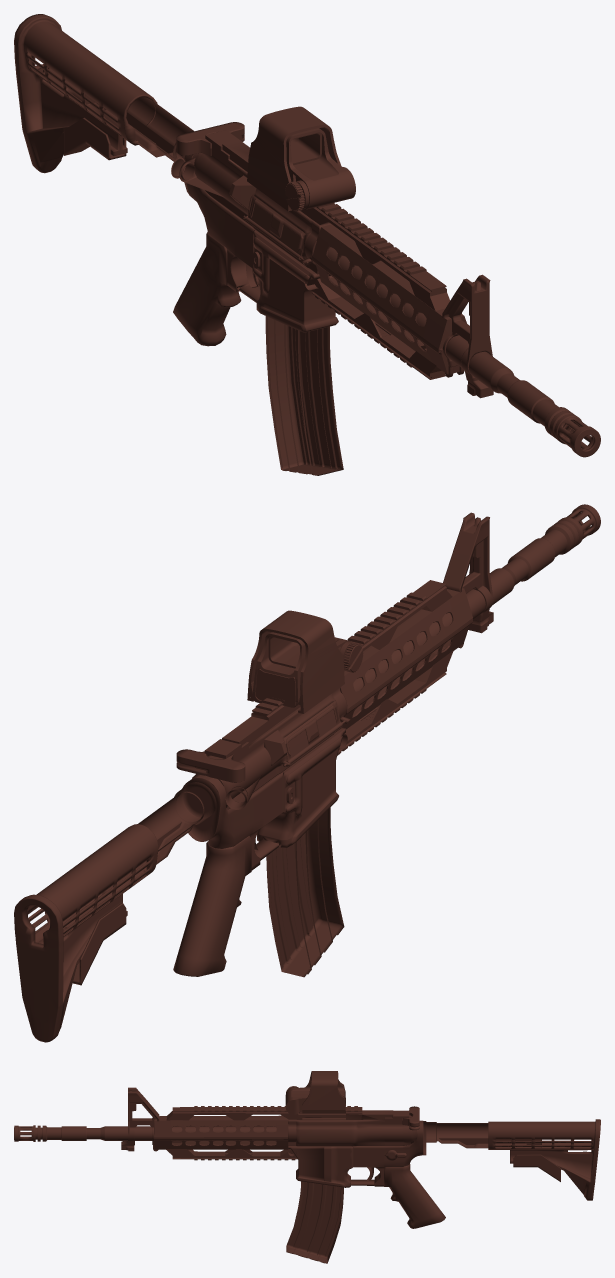
3 views of the same model, one above another, from view 1: azimuth 30°, elevation 25°; view 2: azimuth 150°, elevation 25°; view 3: azimuth 270°, elevation 25° (orthographic). The views are drawn at different scales.
Visible parts, largest first — view 1: firearms_kit.016; view 2: firearms_kit.016; view 3: firearms_kit.016.
Boxes of the visible parts, x1,y1,x2,y2 form: firearms_kit.016: (14, 14, 600, 475); firearms_kit.016: (14, 504, 600, 1042); firearms_kit.016: (14, 1071, 600, 1263).
Bounding box in the file's own units: 6.89 × 32.67 × 93.58.
